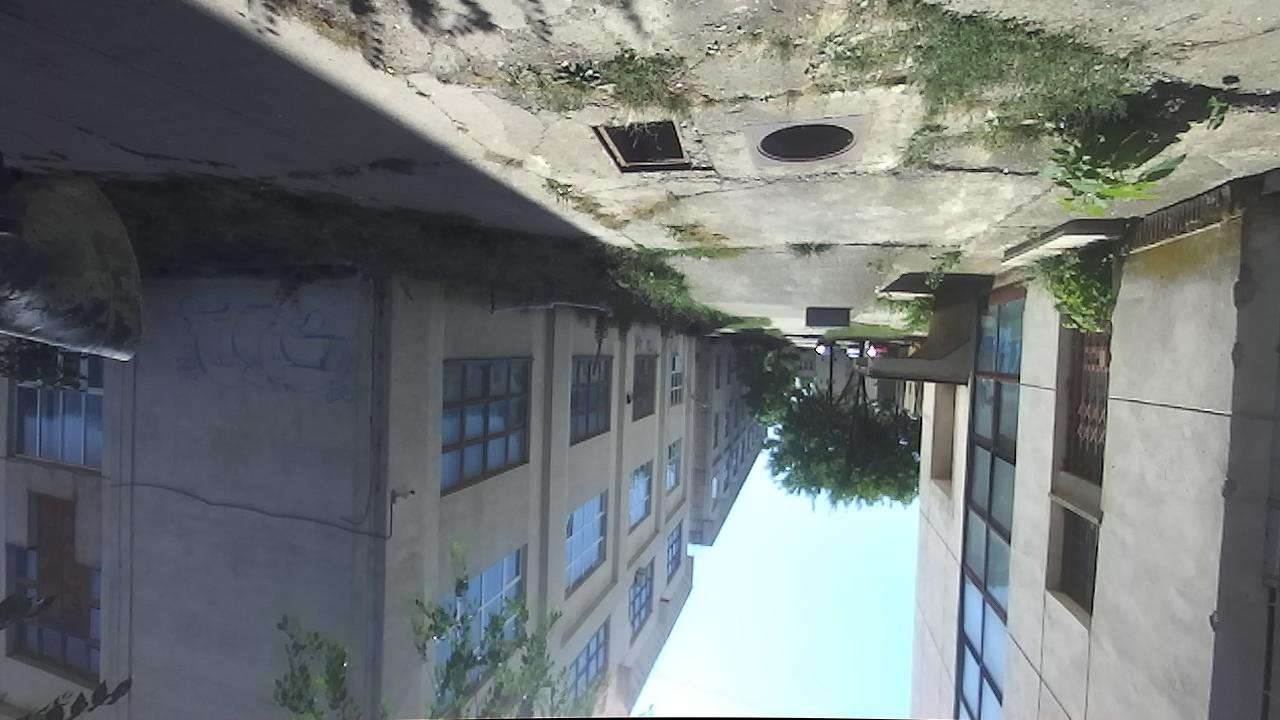drain: (584, 118, 697, 177), (748, 119, 864, 167)
